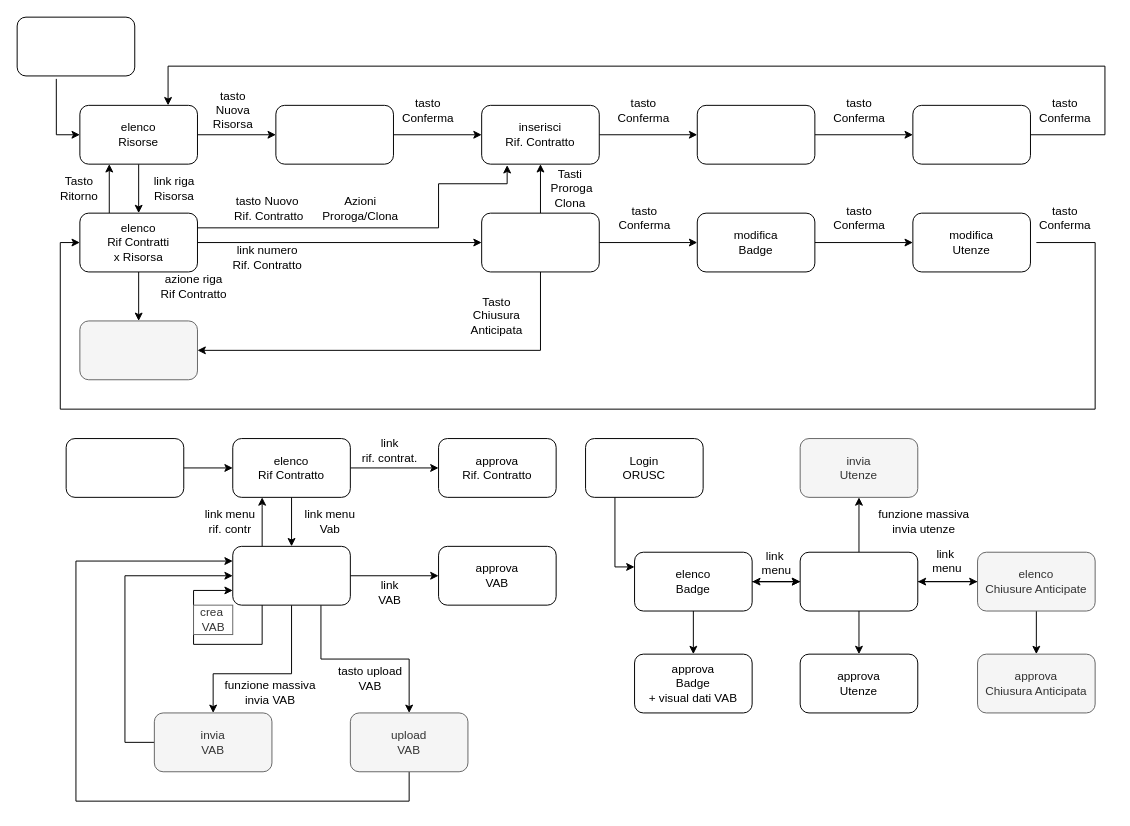
The diagram is 1130 pixels wide and 826 high, and some of its shapes have lost their labels. Here are the shapes that lost their labels. From the top down, the centre of each, then its label:
At point 75,46: "Login Richiedente".
At point 334,134: "inserisci Anagrafica".
At point 755,134: "inserisci Badge".
At point 971,134: "inserisci Utenze".
At point 540,242: "modifica Rif. Contratto".
At point 138,350: "Inserisci Chiusura Anticipata".
At point 124,467: "Login EC".
At point 291,575: "elenco Vab".
At point 858,581: "elenco Utenze".
